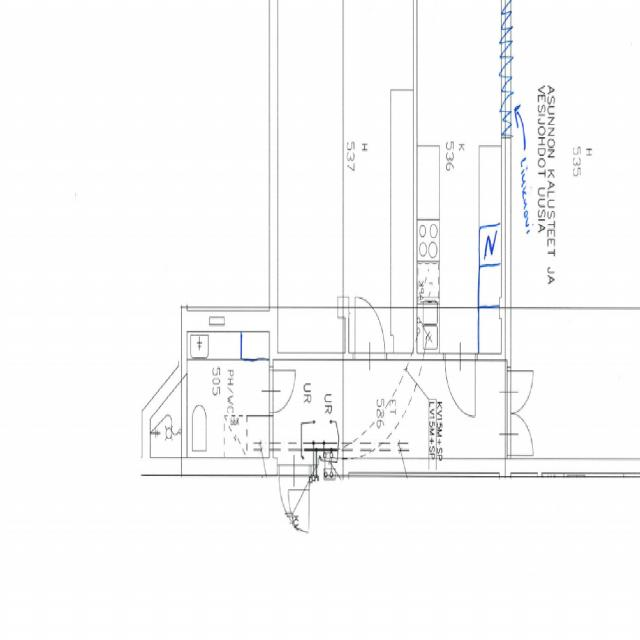door: (279, 464, 309, 532), (445, 354, 476, 416), (355, 297, 385, 360), (506, 413, 534, 456), (506, 371, 534, 413), (269, 371, 295, 412)
